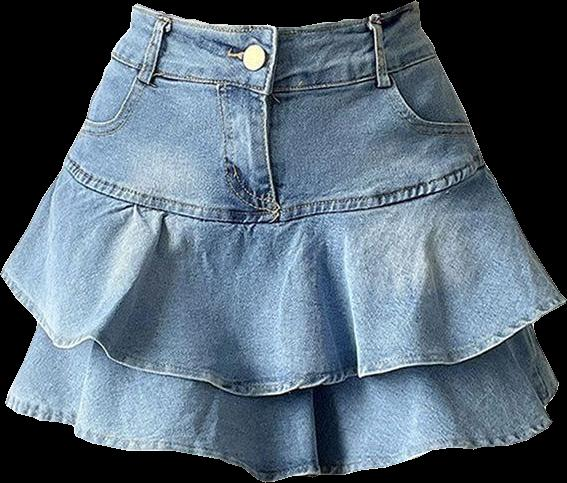Hemline: (0, 271, 566, 397), (1, 380, 561, 479)
Waistline: (61, 160, 484, 221), (109, 53, 438, 95), (132, 0, 417, 34)
